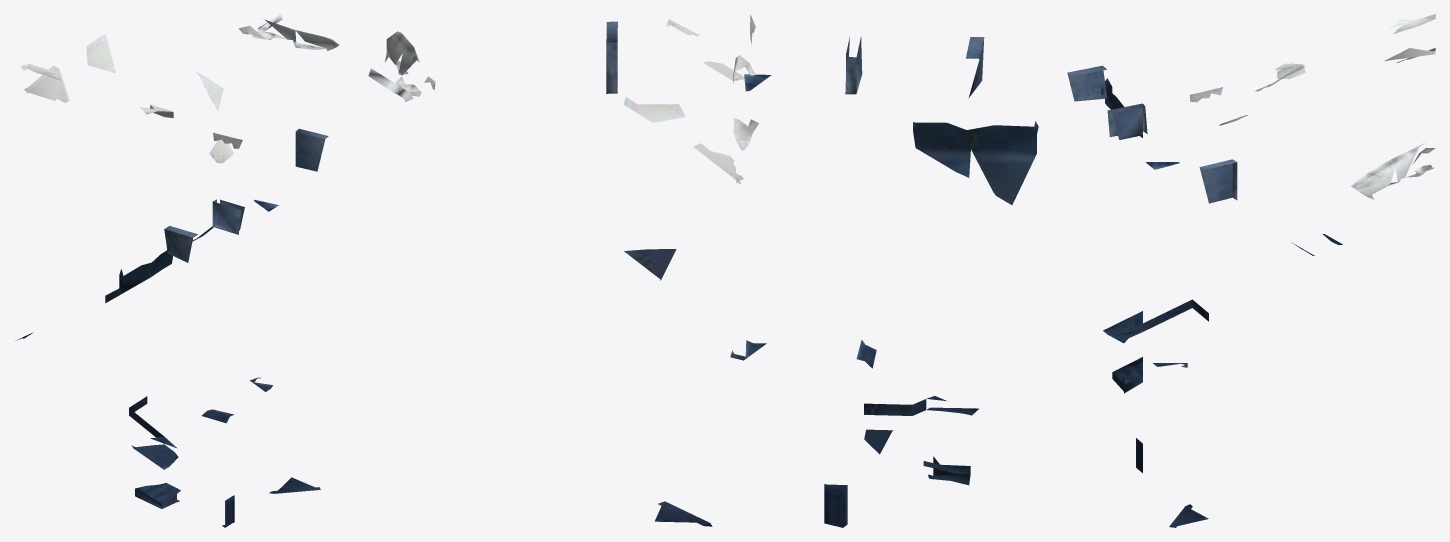
The picture shows the model from 3 angles, left to right: view 1: azimuth 30°, elevation 25°; view 2: azimuth 150°, elevation 25°; view 3: azimuth 270°, elevation 25°; orthographic projection. The views are drawn at different scales.
Visible parts, largest first — view 1: 30436272704370427526_1; view 2: 30436272704370427526_1; view 3: 30436272704370427526_1.
Boxes of the visible parts, x1=… form: 30436272704370427526_1: x1=16, y1=14, x2=339, y2=527; 30436272704370427526_1: x1=368, y1=14, x2=1038, y2=527; 30436272704370427526_1: x1=1067, y1=14, x2=1435, y2=527.
Size of the model in its own units: 27.3 by 30.97 by 24.07.
1 material, 1 textured.
